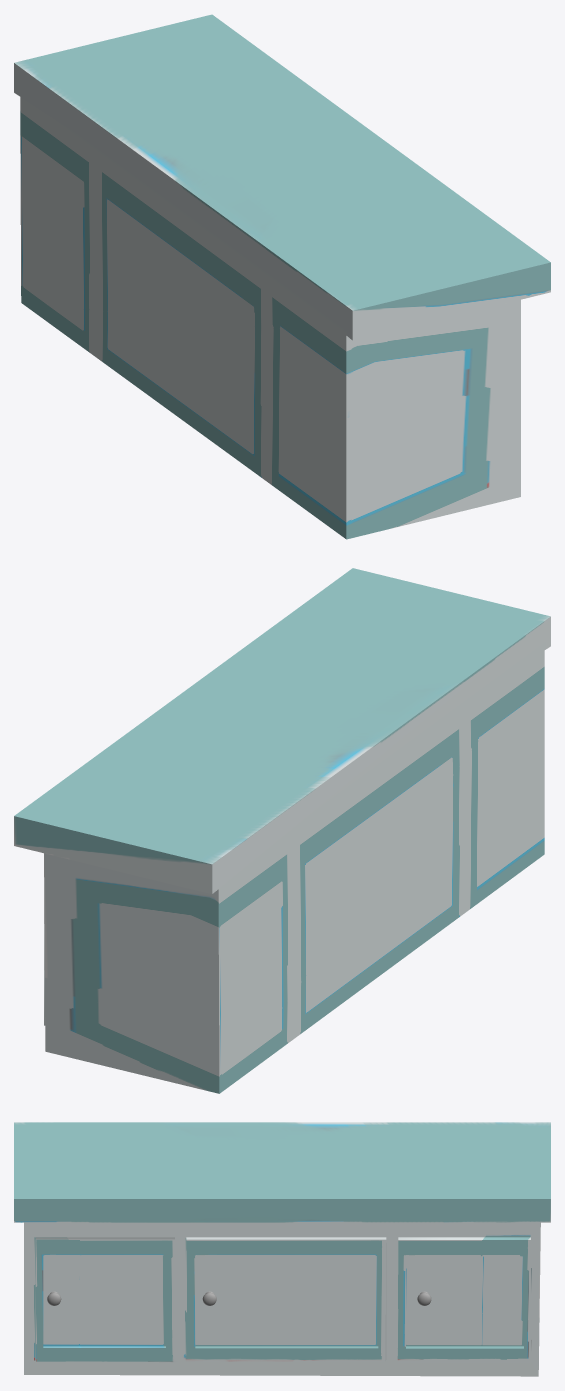
Rendered from KitchenTable.fbx.
3 views of the same model, one above another, from view 1: azimuth 30°, elevation 25°; view 2: azimuth 150°, elevation 25°; view 3: azimuth 270°, elevation 25° (orthographic). The views are drawn at different scales.
Parts seen in each view (by area): view 1: pCube12; view 2: pCube12; view 3: pCube12.
Boxes of the visible parts, x1,y1,x2,y2 form: pCube12: [14, 14, 550, 539]; pCube12: [14, 568, 550, 1093]; pCube12: [14, 1122, 550, 1376].
Size of the model in its own units: 3.33 by 3.78 by 9.85.
